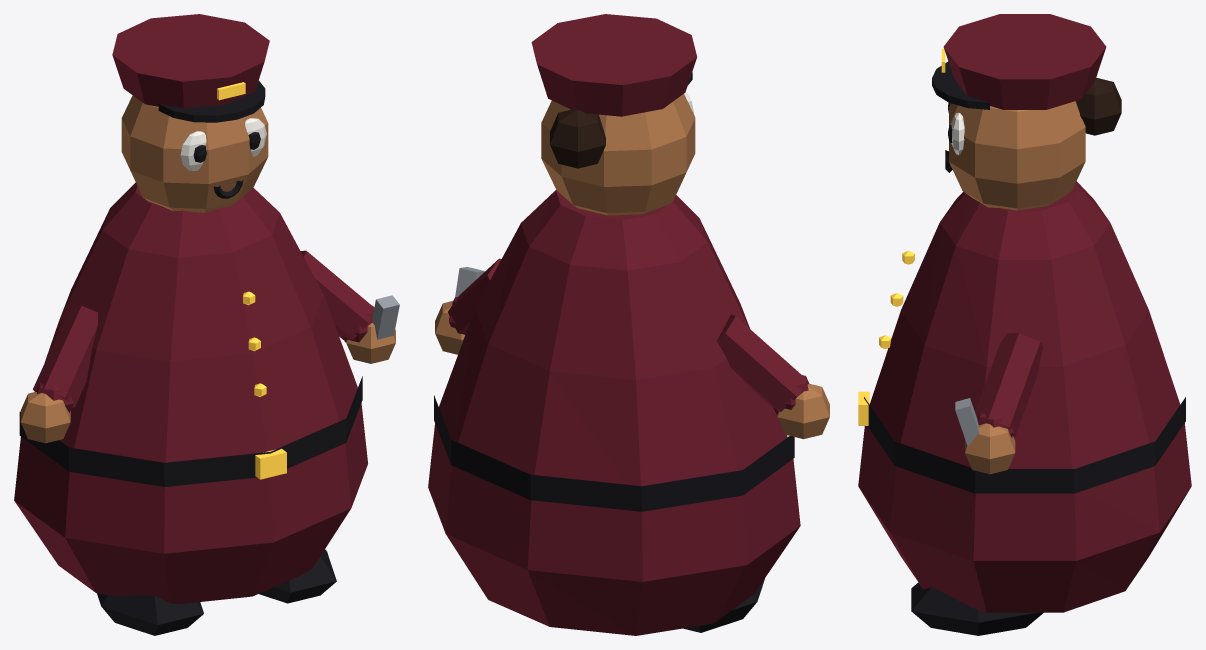
File: npc_guarda_tren.glb
3 views of the same model, side by side, from view 1: azimuth 30°, elevation 25°; view 2: azimuth 150°, elevation 25°; view 3: azimuth 270°, elevation 25° (orthographic). The views are drawn at different scales.
Visible parts, largest first — view 1: body_inspector_uniform, cap_inspector_uniform, head_skin_canela, body_black, arms_inspector_uniform, legs_black, arms_skin_canela, cap_black, body_gold, face_white, punch_punch_steel, face_black; view 2: body_inspector_uniform, cap_inspector_uniform, head_skin_canela, body_black, arms_inspector_uniform, arms_skin_canela, head_hair_dark, legs_black; view 3: body_inspector_uniform, cap_inspector_uniform, head_skin_canela, body_black, arms_inspector_uniform, legs_black, arms_skin_canela, head_hair_dark, cap_black, body_gold, punch_punch_steel, face_white.
Part boxes in pixels (<box>): body_inspector_uniform: <box>14,182,367,603</box>; cap_inspector_uniform: <box>112,14,269,108</box>; head_skin_canela: <box>121,95,268,212</box>; body_black: <box>19,376,362,486</box>; arms_inspector_uniform: <box>33,250,374,412</box>; legs_black: <box>97,549,336,635</box>; arms_skin_canela: <box>20,323,395,443</box>; cap_black: <box>158,80,265,122</box>; body_gold: <box>243,291,286,479</box>; face_white: <box>180,118,266,170</box>; punch_punch_steel: <box>372,295,399,339</box>; face_black: <box>193,132,260,198</box>; body_inspector_uniform: <box>428,190,800,635</box>; cap_inspector_uniform: <box>531,14,696,116</box>; head_skin_canela: <box>541,94,695,215</box>; body_black: <box>434,395,794,511</box>; arms_inspector_uniform: <box>448,258,809,414</box>; arms_skin_canela: <box>435,300,829,439</box>; head_hair_dark: <box>550,109,605,168</box>; legs_black: <box>683,578,764,632</box>; body_inspector_uniform: <box>858,181,1191,612</box>; cap_inspector_uniform: <box>943,14,1106,109</box>; head_skin_canela: <box>949,101,1085,210</box>; body_black: <box>864,397,1185,493</box>; arms_inspector_uniform: <box>975,333,1043,437</box>; legs_black: <box>911,582,1043,635</box>; arms_skin_canela: <box>965,423,1015,474</box>; head_hair_dark: <box>1076,78,1121,135</box>; cap_black: <box>932,61,989,109</box>; body_gold: <box>858,250,914,425</box>; punch_punch_steel: <box>955,398,979,446</box>; face_white: <box>951,112,964,154</box>.
Bounding box in the file's own units: 1.13 × 1.56 × 0.86.
